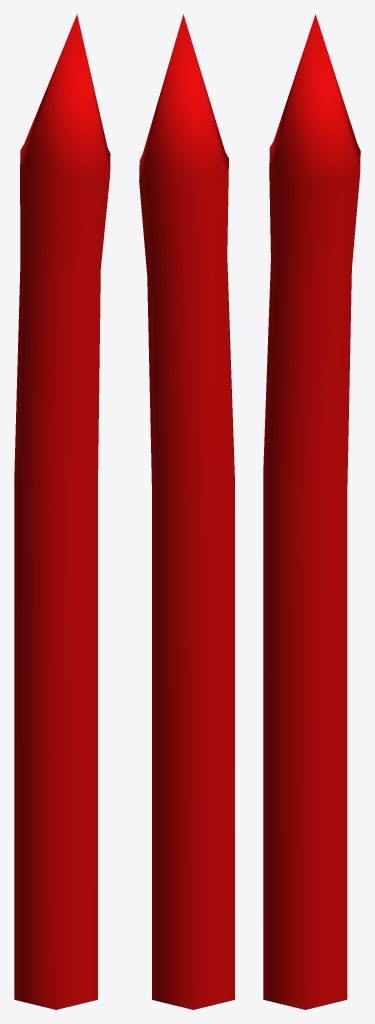
Rendered from Stake_04_Lod0.fbx.
3 views of the same model, side by side, from view 1: azimuth 30°, elevation 25°; view 2: azimuth 150°, elevation 25°; view 3: azimuth 330°, elevation 25° (orthographic).
Parts seen in each view (by area): view 1: Stake_04_Lod0; view 2: Stake_04_Lod0; view 3: Stake_04_Lod0.
Boxes of the visible parts, x1=… form: Stake_04_Lod0: x1=14, y1=14, x2=110, y2=1009; Stake_04_Lod0: x1=139, y1=14, x2=234, y2=1009; Stake_04_Lod0: x1=263, y1=14, x2=360, y2=1009.
Size of the model in its own units: 14.3 by 139 by 11.68.
